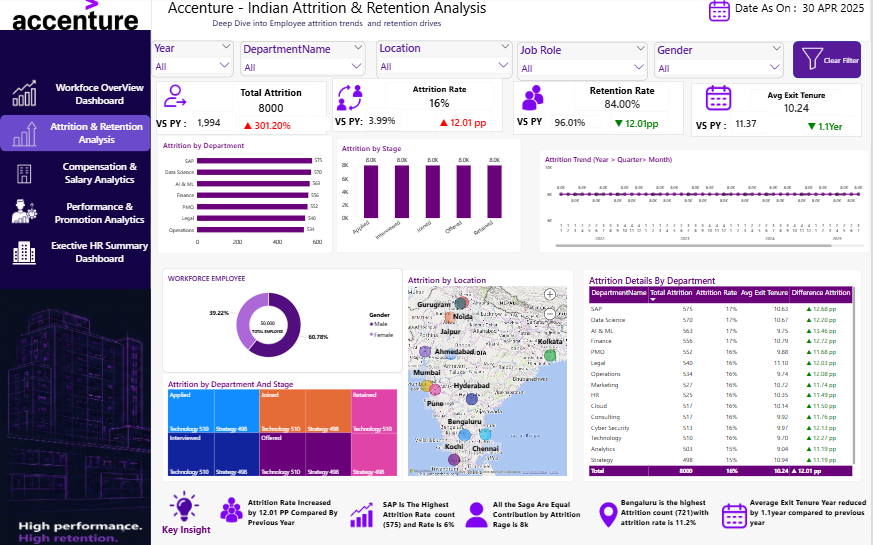

This screenshot's page, from the dashboard's own definition file:
{"tool":"powerbi","page":{"name":"Attrition & Retention Analysis","canvas":[2500,1580],"ordinal":1},"visuals":[{"type":"shape","box":[0,0,432.9,94.8],"z":0,"group":"g3"},{"type":"shape","box":[432.9,0,2066.6,129.6],"z":0,"group":"g2"},{"type":"shape","box":[0,94.8,432.9,1485.2],"z":0,"group":"g1"},{"type":"slicer","fields":{"Values":["DimDate.Year"]},"box":[433.2,124.7,237,107.4],"z":0,"group":"g4"},{"type":"shape","box":[954.3,233.8,489.8,154.8],"z":0,"group":"g7"},{"type":"shape","box":[448.7,240.2,489.8,154.8],"z":0,"group":"g6"},{"type":"shape","box":[1472.6,240.2,489.8,154.8],"z":0,"group":"g8"},{"type":"shape","box":[1984.5,246.5,489.8,154.8],"z":0,"group":"g9"},{"type":"donutChart","title":"WORKFORCE EMPLOYEE","fields":{"Category":["DimEmployee.Gender"],"Y":["ALL_Measure_Page1.TOTAL EMPLOYEE"]},"box":[464.5,777.4,692,300.2],"z":0,"group":"g5"},{"type":"treemap","title":" Attrition by Department And Stage ","fields":{"Details":["DimDepartment.DepartmentName"],"Group":["FactRecruitment.Stage"],"Values":["ALL_Measure_Page2.Total Attrition"]},"box":[464.5,1080.7,692,312.8],"z":0},{"type":"textbox","box":[466,1512,168,50],"z":0,"group":"g10"},{"type":"lineChart","title":" Attrition Trend (Year > Quarter> Month)","fields":{"Category":["DimDate.Year","DimDate.Month","DimDate.Quarter"],"Y":["ALL_Measure_Page2.Total Attrition"]},"box":[1548.4,436.7,950.9,298.8],"z":500},{"type":"clusteredColumnChart","title":"Attrition by Stage","fields":{"Category":["FactRecruitment.Stage"],"Y":["ALL_Measure_Page2.Total Attrition"]},"box":[964,404,532,330],"z":750},{"type":"image","box":[0,0,432.9,94.8],"z":1000,"group":"g3"},{"type":"textbox","box":[432.9,0,1011.2,129.6],"z":1000,"group":"g2"},{"type":"slicer","fields":{"Values":["DimDepartment.DepartmentName"]},"box":[688.9,128.3,360.2,101.1],"z":1000,"group":"g4"},{"type":"pageNavigator","box":[0,224.4,432.9,565.6],"z":1000,"group":"g1"},{"type":"image","box":[451.9,246.5,101.1,72.7],"z":1000,"group":"g6"},{"type":"image","box":[954.3,252.8,101.1,72.7],"z":1000,"group":"g7"},{"type":"image","box":[1485.2,252.8,91.6,72.7],"z":1000,"group":"g8"},{"type":"image","box":[2012.9,252.8,101.1,72.7],"z":1000,"group":"g9"},{"type":"map","title":" Attrition  by Location ","fields":{"Category":["DimLocation.City"],"Series":["DimLocation.City"],"Size":["ALL_Measure_Page2.Total Attrition"],"X":["ALL_Measure_Page2.Total Attrition"]},"box":[1156,780,492,612],"z":1000},{"type":"card","fields":{"Values":["ALL_Measure_Page1.TOTAL EMPLOYEE"]},"box":[693.9,909.2,146.3,73.2],"z":1000,"group":"g5"},{"type":"image","box":[486,1414,88,98],"z":1000,"group":"g10"},{"type":"clusteredBarChart","title":" Attrition by Department","fields":{"Category":["DimDepartment.DepartmentName"],"Y":["ALL_Measure_Page2.Total Attrition"]},"box":[450,396,504,340],"z":1500},{"type":"textbox","box":[2110.9,9.5,388.7,60],"z":2000,"group":"g2"},{"type":"slicer","fields":{"Values":["DimJobLevel.JobLevel"]},"box":[1485.5,130.4,376,110.6],"z":2000,"group":"g4"},{"type":"image","box":[31.6,233.8,75.8,85.3],"z":2000,"group":"g1"},{"type":"cardVisual","fields":{"Data":["ALL_Measure_Page2.Retention Rate"]},"box":[1647.5,245,275,80],"z":2000,"group":"g8"},{"type":"cardVisual","fields":{"Data":["ALL_Measure_Page1.Attrition Rate"]},"box":[1106,246.4,312.8,79],"z":2000,"group":"g7"},{"type":"cardVisual","fields":{"Data":["ALL_Measure_Page2.Attrition Rates"]},"box":[665,247.5,222.5,90],"z":2000,"group":"g6"},{"type":"cardVisual","fields":{"Data":["ALL_Measure_Page2.Avg Exit Tenure"]},"box":[2155,265,265,72.5],"z":2000,"group":"g9"},{"type":"tableEx","title":"Attrition Details By Department","fields":{"Values":["DimDepartment.DepartmentName","ALL_Measure_Page2.Total Attrition","ALL_Measure_Page1.Attrition Rate","ALL_Measure_Page2.Avg Exit Tenure","ALL_Measure_Page1.Difference Attrition"]},"box":[1674,780,800,612],"z":2000},{"type":"textbox","box":[714,1438,268,100],"z":2000,"group":"g10"},{"type":"image","box":[2035,0,60,79],"z":3000,"group":"g2"},{"type":"group","id":"g1","title":"Left Pane","box":[0,94.8,432.9,1485.2],"z":3000},{"type":"slicer","fields":{"Values":["DimLocation.City"]},"box":[1080.7,125.1,391.8,110.6],"z":3000,"group":"g4"},{"type":"textbox","box":[1485,337.5,112.5,47.5],"z":3000,"group":"g8"},{"type":"textbox","box":[963.8,341.2,116.9,47.4],"z":3000,"group":"g7"},{"type":"textbox","box":[447.5,342.5,105,47.5],"z":3000,"group":"g6"},{"type":"textbox","box":[1997.5,350,150,52.5],"z":3000,"group":"g9"},{"type":"image","box":[31.6,350.8,75.8,85.3],"z":3000,"group":"g1"},{"type":"image","box":[630,1438,72,74],"z":3000,"group":"g10"},{"type":"group","id":"g2","title":"Top Pane","box":[432.9,0,2066.6,129.6],"z":4000},{"type":"slicer","fields":{"Values":["DimEmployee.Gender"]},"box":[1877.3,130.4,372.9,104.3],"z":4000,"group":"g4"},{"type":"cardVisual","fields":{"Data":["ALL_Measure_Page1.Previous Year Attrition"]},"box":[1047.5,321.2,108.2,66.3],"z":4000,"group":"g7"},{"type":"cardVisual","fields":{"Data":["ALL_Measure_Page2.Previous Year Attrition Rate"]},"box":[552.5,327.5,125,57.5],"z":4000,"group":"g6"},{"type":"cardVisual","fields":{"Data":["ALL_Measure_Page2.Previous TenureYear Exit"]},"box":[2100,327.5,107.5,65],"z":4000,"group":"g9"},{"type":"cardVisual","fields":{"Data":["ALL_Measure_Page2.Prevoiuse Year Retention Rate"]},"box":[1577.5,337.5,147.5,37.5],"z":4000,"group":"g8"},{"type":"image","box":[31.6,464.5,75.8,85.3],"z":4000,"group":"g1"},{"type":"image","box":[1004,1450,72,74],"z":4000,"group":"g10"},{"type":"image","box":[0,837.4,432.9,742.6],"z":4500,"group":"g1"},{"type":"group","id":"g3","title":"Logo","box":[0,0,432.9,94.8],"z":5000},{"type":"shape","box":[2278.4,126.4,195.9,107.4],"z":5000,"group":"g4"},{"type":"cardVisual","fields":{"Data":["ALL_Measure_Page1.Difference Attrition"]},"box":[1250,325,167.5,62.5],"z":5000,"group":"g7"},{"type":"cardVisual","fields":{"Data":["ALL_Measure_Page2.Difference Retention Rate"]},"box":[1752.5,327.5,170,62.5],"z":5000,"group":"g8"},{"type":"cardVisual","fields":{"Data":["ALL_Measure_Page2.Difference Tenueyear exit"]},"box":[2305,337.5,150,57.5],"z":5000,"group":"g9"},{"type":"cardVisual","fields":{"Data":["ALL_Measure_Page2.Difference Attrition Rate"]},"box":[686.1,340.8,262.3,44.2],"z":5000,"group":"g6"},{"type":"image","box":[31.6,572,75.8,85.3],"z":5000,"group":"g1"},{"type":"textbox","box":[1100,1444,260,94],"z":5000,"group":"g10"},{"type":"image","box":[2303.7,142.2,63.2,72.7],"z":6000,"group":"g4"},{"type":"image","box":[31.6,692,75.8,85.3],"z":6000,"group":"g1"},{"type":"image","box":[1334,1450,72,74],"z":6000,"group":"g10"},{"type":"group","id":"g4","title":"Slicer Top","box":[433.2,124.7,2041.1,116.3],"z":7000},{"type":"textbox","box":[2366.9,167.5,107.4,47.4],"z":7000,"group":"g4"},{"type":"textbox","box":[1418,1444,282,94],"z":7000,"group":"g10"},{"type":"image","box":[1714,1450,72,74],"z":8000,"group":"g10"},{"type":"textbox","box":[1786,1438,280,100],"z":9000,"group":"g10"},{"type":"image","box":[2074,1454,72,74],"z":10000,"group":"g10"},{"type":"group","id":"g5","title":"Workforce employee","box":[464.5,777.4,692,300.2],"z":11000},{"type":"textbox","box":[2156,1438,344,100],"z":11000,"group":"g10"},{"type":"group","id":"g6","title":"Total Attrition ","box":[447.5,240.2,500.9,154.8],"z":12000},{"type":"group","id":"g7","title":"Attrition Rate","box":[954.3,233.8,489.8,154.8],"z":13000},{"type":"group","id":"g8","title":"Retention Rate","box":[1472.6,240.2,489.8,154.8],"z":14000},{"type":"group","id":"g9","title":"Avg Exit TenureYear","box":[1984.5,246.5,489.8,156],"z":15000},{"type":"group","id":"g10","title":"Key Insight ","box":[466,1414,2034,148],"z":16000}]}

Visuals, with their boxes on the page's 2500x1580 design canvas (x1, y1, x2, y2). These are canvas units, not pixel positions in the 873x545 screenshot, which may show the page scaled, cropped or inside an application window:
shape: pyautogui.locateOnScreen(0, 0, 433, 95)
shape: pyautogui.locateOnScreen(433, 0, 2500, 130)
shape: pyautogui.locateOnScreen(0, 95, 433, 1580)
slicer - DimDate.Year: pyautogui.locateOnScreen(433, 125, 670, 232)
shape: pyautogui.locateOnScreen(954, 234, 1444, 389)
shape: pyautogui.locateOnScreen(449, 240, 938, 395)
shape: pyautogui.locateOnScreen(1473, 240, 1962, 395)
shape: pyautogui.locateOnScreen(1984, 246, 2474, 401)
"WORKFORCE EMPLOYEE" donutChart: pyautogui.locateOnScreen(464, 777, 1156, 1078)
" Attrition by Department And Stage " treemap: pyautogui.locateOnScreen(464, 1081, 1156, 1394)
textbox: pyautogui.locateOnScreen(466, 1512, 634, 1562)
" Attrition Trend (Year > Quarter> Month)" lineChart: pyautogui.locateOnScreen(1548, 437, 2499, 736)
"Attrition by Stage" clusteredColumnChart: pyautogui.locateOnScreen(964, 404, 1496, 734)
image: pyautogui.locateOnScreen(0, 0, 433, 95)
textbox: pyautogui.locateOnScreen(433, 0, 1444, 130)
slicer - DimDepartment.DepartmentName: pyautogui.locateOnScreen(689, 128, 1049, 229)
pageNavigator: pyautogui.locateOnScreen(0, 224, 433, 790)
image: pyautogui.locateOnScreen(452, 246, 553, 319)
image: pyautogui.locateOnScreen(954, 253, 1055, 326)
image: pyautogui.locateOnScreen(1485, 253, 1577, 326)
image: pyautogui.locateOnScreen(2013, 253, 2114, 326)
" Attrition  by Location " map: pyautogui.locateOnScreen(1156, 780, 1648, 1392)
card - ALL_Measure_Page1.TOTAL EMPLOYEE: pyautogui.locateOnScreen(694, 909, 840, 982)
image: pyautogui.locateOnScreen(486, 1414, 574, 1512)
" Attrition by Department" clusteredBarChart: pyautogui.locateOnScreen(450, 396, 954, 736)
textbox: pyautogui.locateOnScreen(2111, 10, 2500, 70)
slicer - DimJobLevel.JobLevel: pyautogui.locateOnScreen(1486, 130, 1862, 241)
image: pyautogui.locateOnScreen(32, 234, 107, 319)
cardVisual - ALL_Measure_Page2.Retention Rate: pyautogui.locateOnScreen(1648, 245, 1922, 325)
cardVisual - ALL_Measure_Page1.Attrition Rate: pyautogui.locateOnScreen(1106, 246, 1419, 325)
cardVisual - ALL_Measure_Page2.Attrition Rates: pyautogui.locateOnScreen(665, 248, 888, 338)
cardVisual - ALL_Measure_Page2.Avg Exit Tenure: pyautogui.locateOnScreen(2155, 265, 2420, 338)
"Attrition Details By Department" tableEx: pyautogui.locateOnScreen(1674, 780, 2474, 1392)
textbox: pyautogui.locateOnScreen(714, 1438, 982, 1538)
image: pyautogui.locateOnScreen(2035, 0, 2095, 79)
"Left Pane" group: pyautogui.locateOnScreen(0, 95, 433, 1580)
slicer - DimLocation.City: pyautogui.locateOnScreen(1081, 125, 1472, 236)
textbox: pyautogui.locateOnScreen(1485, 338, 1598, 385)
textbox: pyautogui.locateOnScreen(964, 341, 1081, 389)
textbox: pyautogui.locateOnScreen(448, 342, 552, 390)
textbox: pyautogui.locateOnScreen(1998, 350, 2148, 402)
image: pyautogui.locateOnScreen(32, 351, 107, 436)
image: pyautogui.locateOnScreen(630, 1438, 702, 1512)
"Top Pane" group: pyautogui.locateOnScreen(433, 0, 2500, 130)
slicer - DimEmployee.Gender: pyautogui.locateOnScreen(1877, 130, 2250, 235)
cardVisual - ALL_Measure_Page1.Previous Year Attrition: pyautogui.locateOnScreen(1048, 321, 1156, 388)
cardVisual - ALL_Measure_Page2.Previous Year Attrition Rate: pyautogui.locateOnScreen(552, 328, 678, 385)
cardVisual - ALL_Measure_Page2.Previous TenureYear Exit: pyautogui.locateOnScreen(2100, 328, 2208, 392)
cardVisual - ALL_Measure_Page2.Prevoiuse Year Retention Rate: pyautogui.locateOnScreen(1578, 338, 1725, 375)
image: pyautogui.locateOnScreen(32, 464, 107, 550)
image: pyautogui.locateOnScreen(1004, 1450, 1076, 1524)
image: pyautogui.locateOnScreen(0, 837, 433, 1580)
"Logo" group: pyautogui.locateOnScreen(0, 0, 433, 95)
shape: pyautogui.locateOnScreen(2278, 126, 2474, 234)
cardVisual - ALL_Measure_Page1.Difference Attrition: pyautogui.locateOnScreen(1250, 325, 1418, 388)
cardVisual - ALL_Measure_Page2.Difference Retention Rate: pyautogui.locateOnScreen(1752, 328, 1922, 390)
cardVisual - ALL_Measure_Page2.Difference Tenueyear exit: pyautogui.locateOnScreen(2305, 338, 2455, 395)
cardVisual - ALL_Measure_Page2.Difference Attrition Rate: pyautogui.locateOnScreen(686, 341, 948, 385)
image: pyautogui.locateOnScreen(32, 572, 107, 657)
textbox: pyautogui.locateOnScreen(1100, 1444, 1360, 1538)
image: pyautogui.locateOnScreen(2304, 142, 2367, 215)
image: pyautogui.locateOnScreen(32, 692, 107, 777)
image: pyautogui.locateOnScreen(1334, 1450, 1406, 1524)
"Slicer Top" group: pyautogui.locateOnScreen(433, 125, 2474, 241)
textbox: pyautogui.locateOnScreen(2367, 168, 2474, 215)
textbox: pyautogui.locateOnScreen(1418, 1444, 1700, 1538)
image: pyautogui.locateOnScreen(1714, 1450, 1786, 1524)
textbox: pyautogui.locateOnScreen(1786, 1438, 2066, 1538)
image: pyautogui.locateOnScreen(2074, 1454, 2146, 1528)
"Workforce employee" group: pyautogui.locateOnScreen(464, 777, 1156, 1078)
textbox: pyautogui.locateOnScreen(2156, 1438, 2500, 1538)
"Total Attrition " group: pyautogui.locateOnScreen(448, 240, 948, 395)
"Attrition Rate" group: pyautogui.locateOnScreen(954, 234, 1444, 389)
"Retention Rate" group: pyautogui.locateOnScreen(1473, 240, 1962, 395)
"Avg Exit TenureYear" group: pyautogui.locateOnScreen(1984, 246, 2474, 402)
"Key Insight " group: pyautogui.locateOnScreen(466, 1414, 2500, 1562)
